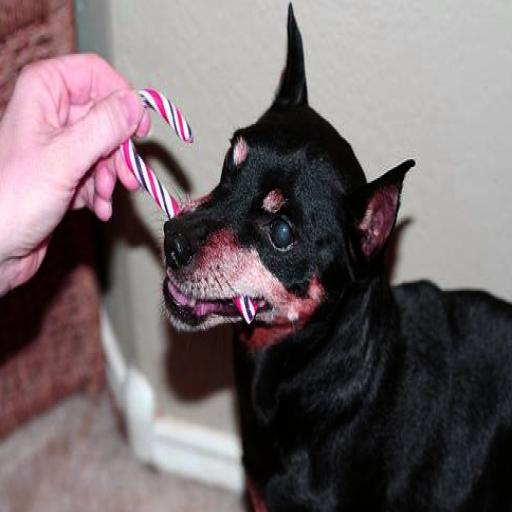dog_face: (151, 6, 406, 332)
